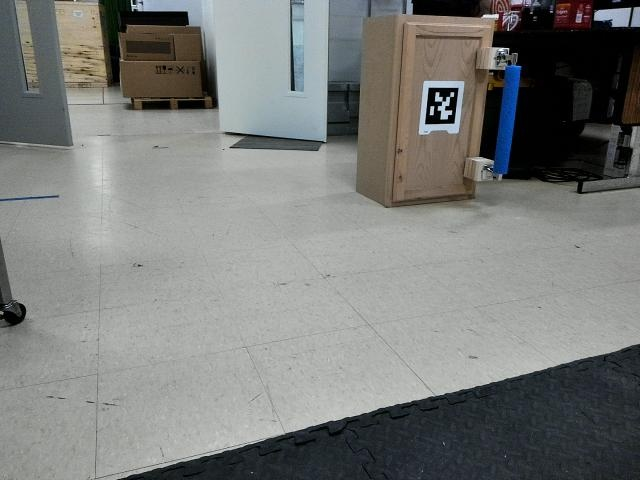noodle_handle: (489, 60, 527, 183)
